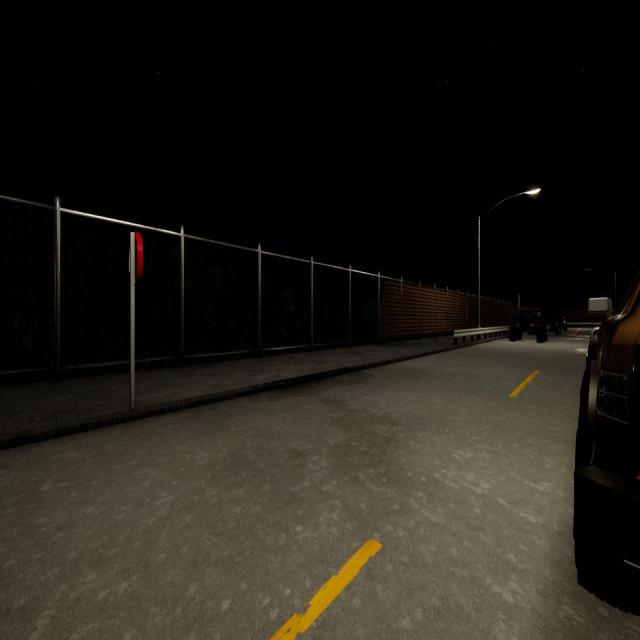Traffic_Signs: (128, 231, 144, 278)
Vehicle: (573, 283, 640, 616), (509, 308, 548, 343), (548, 316, 568, 334)
